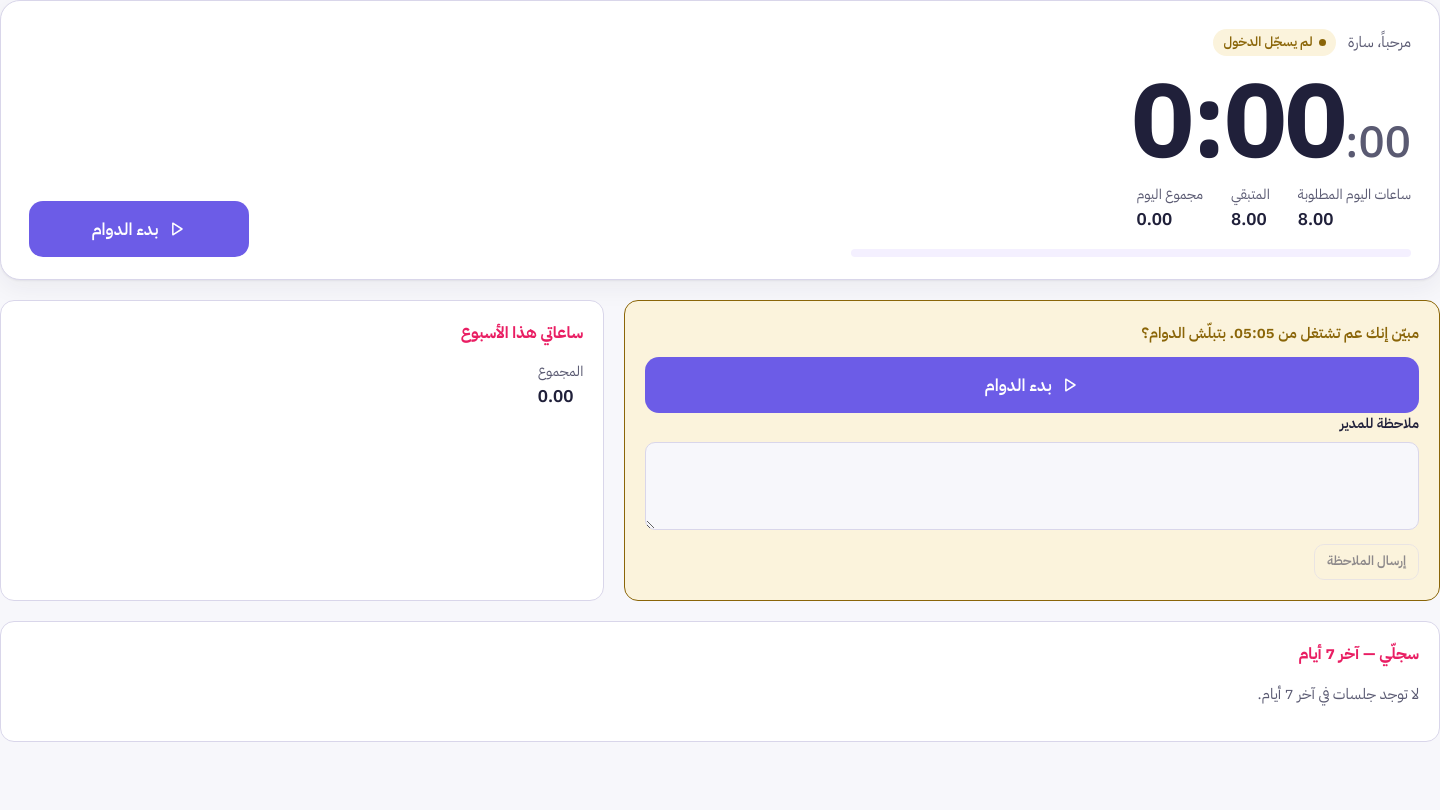
Test: EmployeeScreen › shows a too-long note error next to the note box
Expected: the button "إرسال الملاحظة" is disabled, [1314,544,1419,580]
Type "ملاحظة" into the text box labelled "ملاحظة للمدير" at (1032, 486), box [645,442,1419,530]
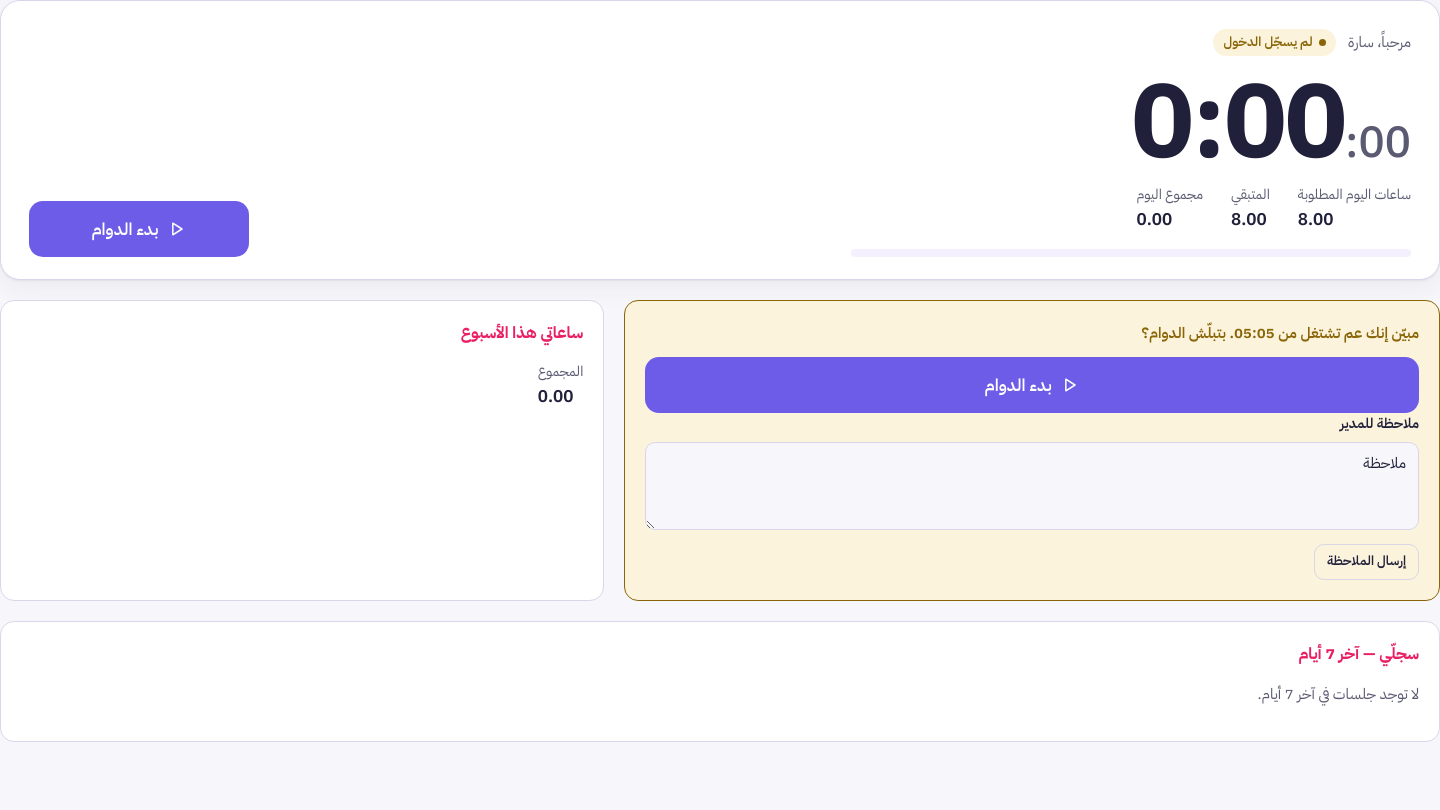
Click the button "إرسال الملاحظة" at (1367, 562), box [1314,544,1419,580]
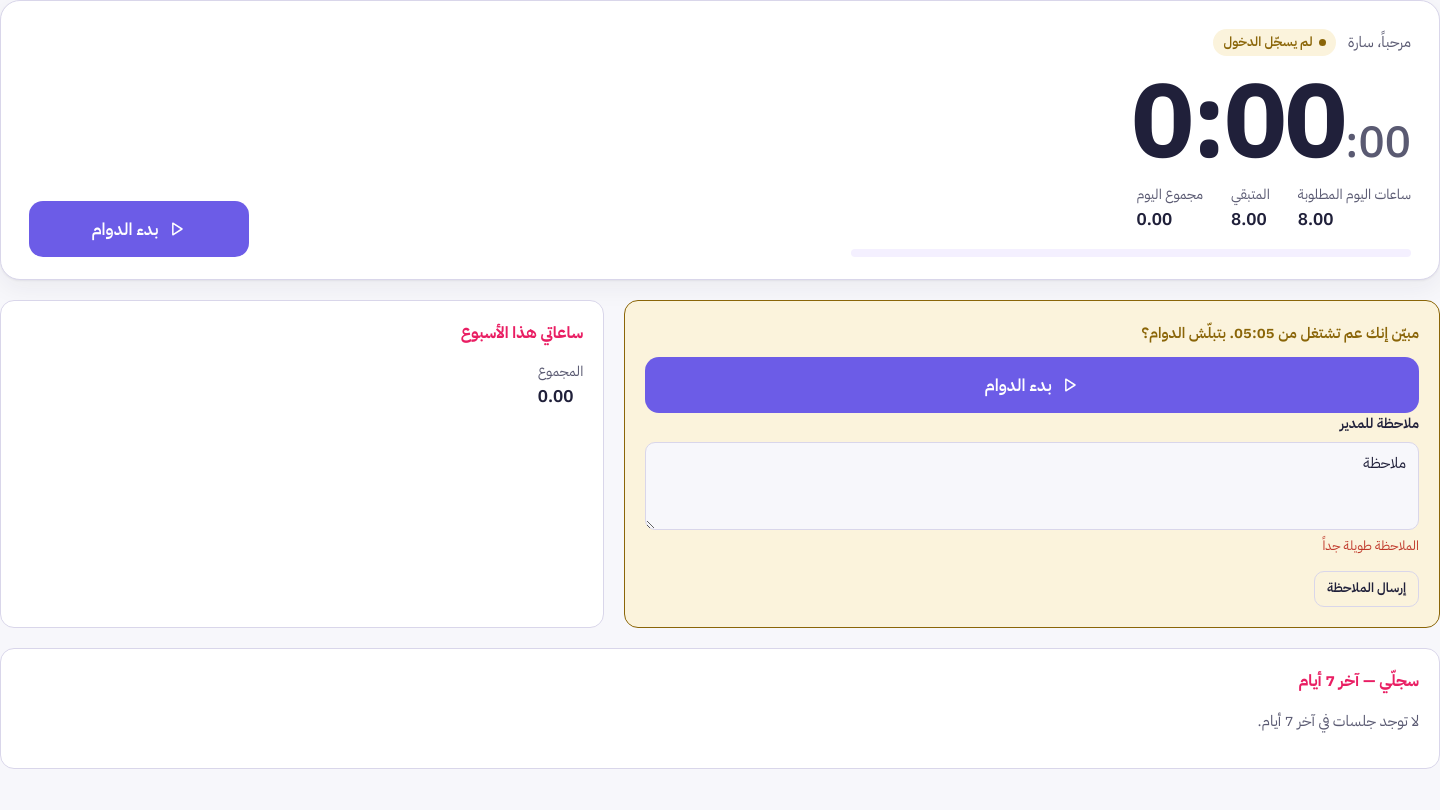
Expected: the button "إرسال الملاحظة" is enabled, [1314,571,1419,607]
Expected: the text "الملاحظة طويلة جداً" is shown, [1322,536,1419,555]
